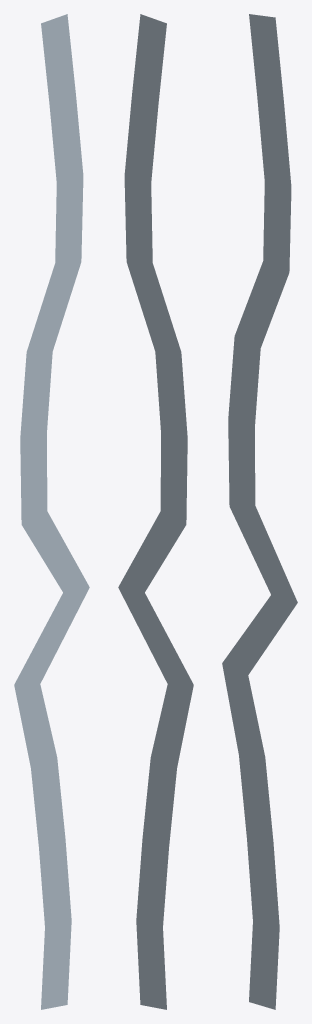
File: 2065_LightningCage_Trigger_Lightning0.fbx
3 renders of one model, left to right at view 1: azimuth 30°, elevation 25°; view 2: azimuth 150°, elevation 25°; view 3: azimuth 330°, elevation 25°, orthographic.
Parts seen in each view (by area): view 1: PART_BranchedBolt0; view 2: PART_BranchedBolt0; view 3: PART_BranchedBolt0.
Boxes of the visible parts, bbox=[...] form: PART_BranchedBolt0: bbox=[14, 14, 89, 1009]; PART_BranchedBolt0: bbox=[118, 14, 193, 1009]; PART_BranchedBolt0: bbox=[222, 14, 297, 1009].
Bounding box in the file's own units: 36.85 × 461 × 7.51e-05.
